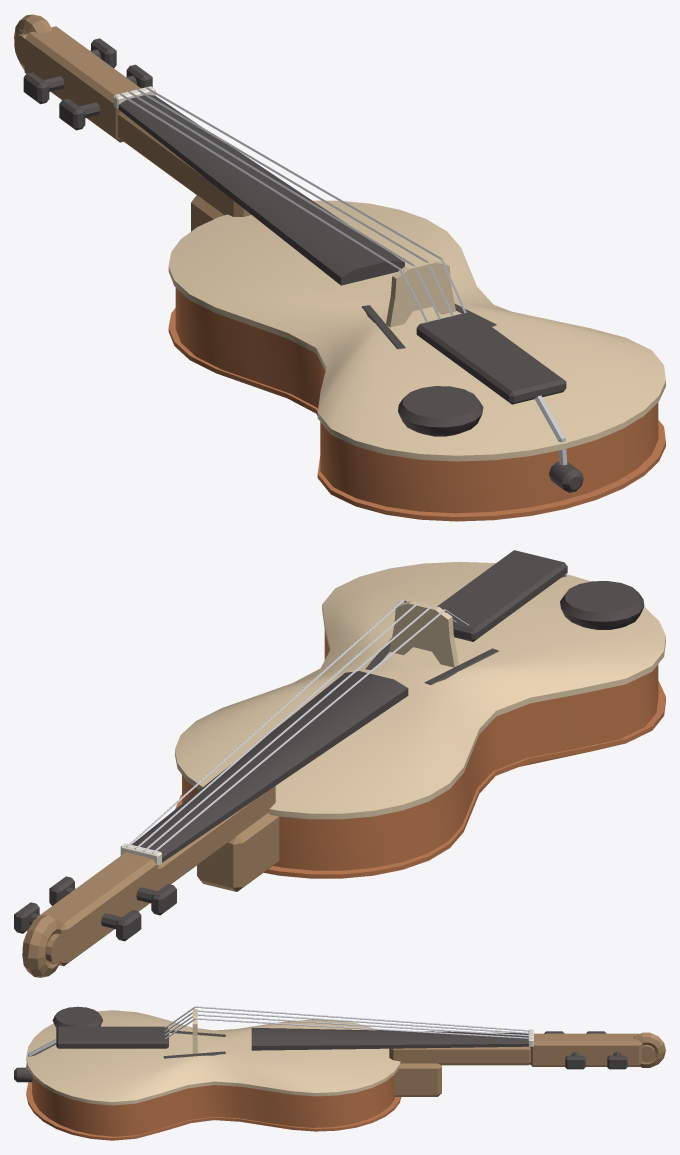
The model's file is orchestra-and-band-instruments-viola-5187eb19__39279.glb.
3 renders of one model, top to bottom at view 1: azimuth 30°, elevation 25°; view 2: azimuth 150°, elevation 25°; view 3: azimuth 270°, elevation 25°, orthographic. The views are drawn at different scales.
Visible parts, largest first — view 1: viola; view 2: viola; view 3: viola.
Boxes of the visible parts, x1,y1,x2,y2 form: viola: (14, 14, 665, 521); viola: (14, 550, 665, 977); viola: (14, 1006, 665, 1140).
Size of the model in its own units: 0.2318 by 0.1098 by 0.6945.
